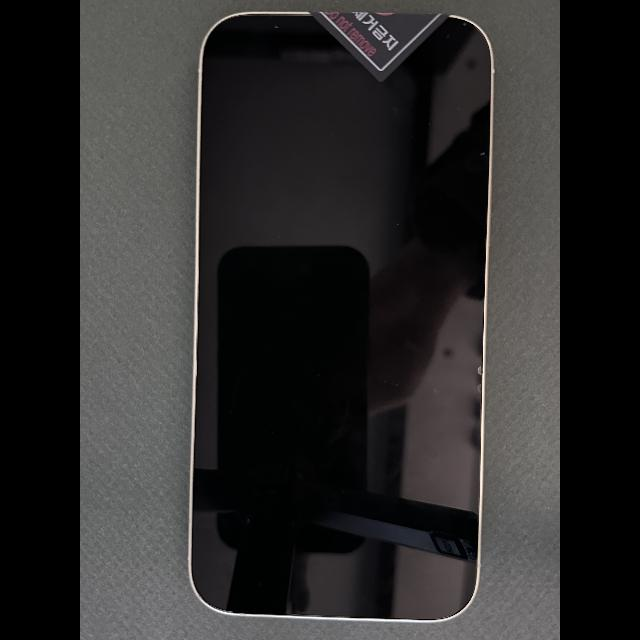phone: (187, 11, 495, 624)
sticker: (309, 11, 451, 83)
